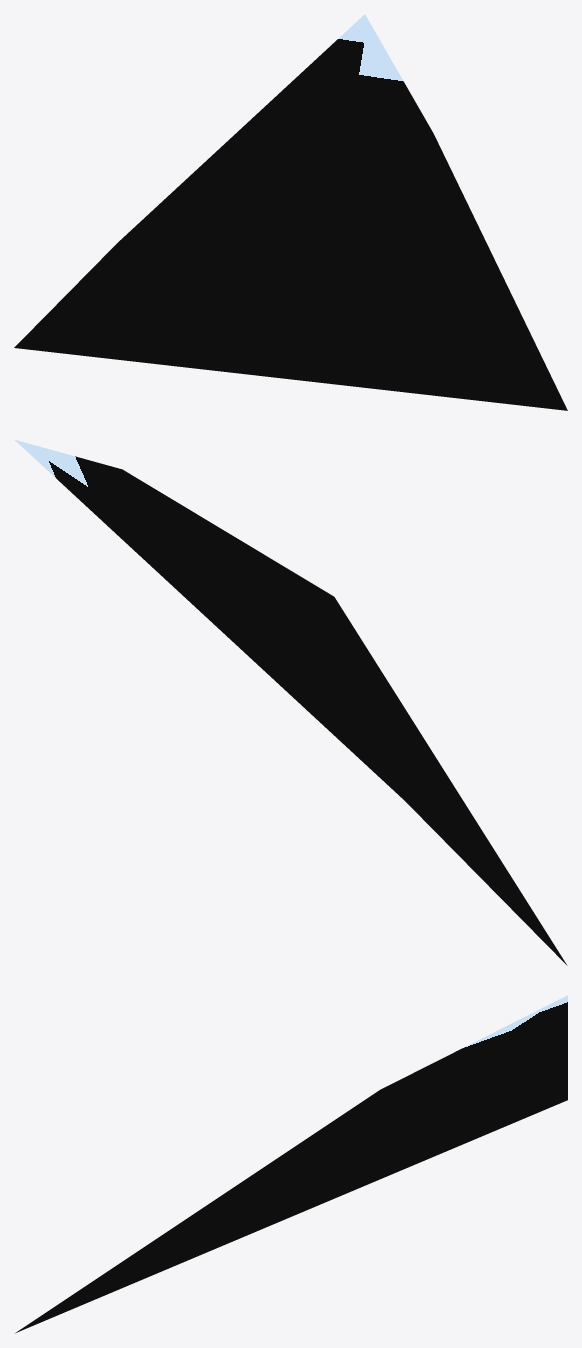
3 renders of one model, top to bottom at view 1: azimuth 30°, elevation 25°; view 2: azimuth 150°, elevation 25°; view 3: azimuth 270°, elevation 25°, orthographic. The views are drawn at different scales.
Bounding box in the file's own units: 0.2325 × 0.1572 × 0.233.
1 material, 1 textured.
